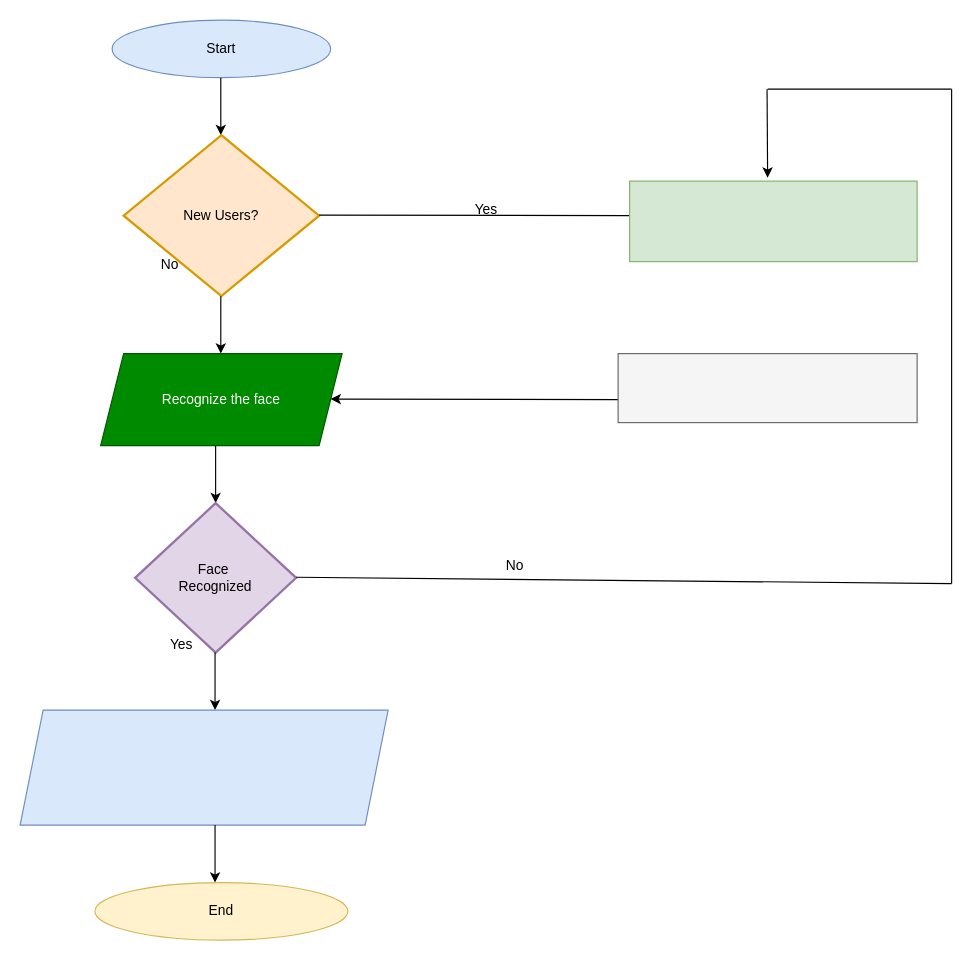
Image size: 973x960. Some labels were removed from this diagram. The centre of each missing label's shape, as x and y in pixels:
Give your photograph: (x=772, y=221)
Store the face data in folder on your name: (x=767, y=387)
Stored in csv file with registration number & data time of entry: (x=203, y=767)
